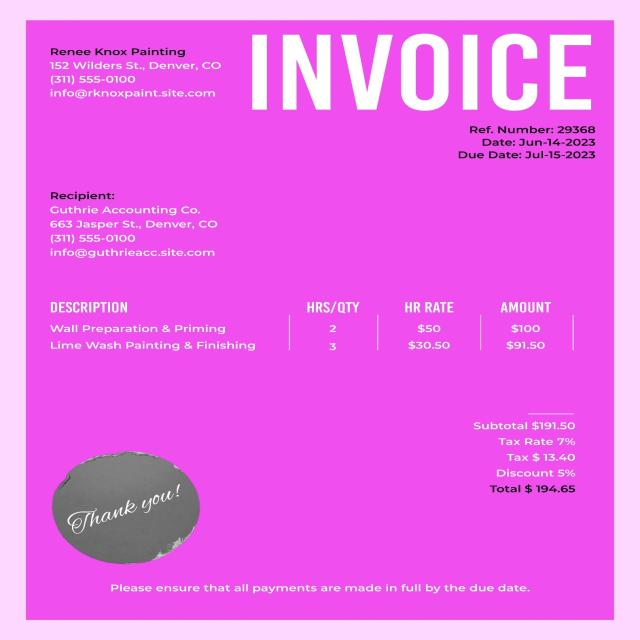paragraph: (250, 32, 595, 116), (49, 191, 220, 260), (46, 47, 222, 99), (471, 421, 578, 494), (66, 481, 184, 537), (111, 583, 531, 597), (458, 120, 597, 162)
table: (49, 298, 577, 355)
